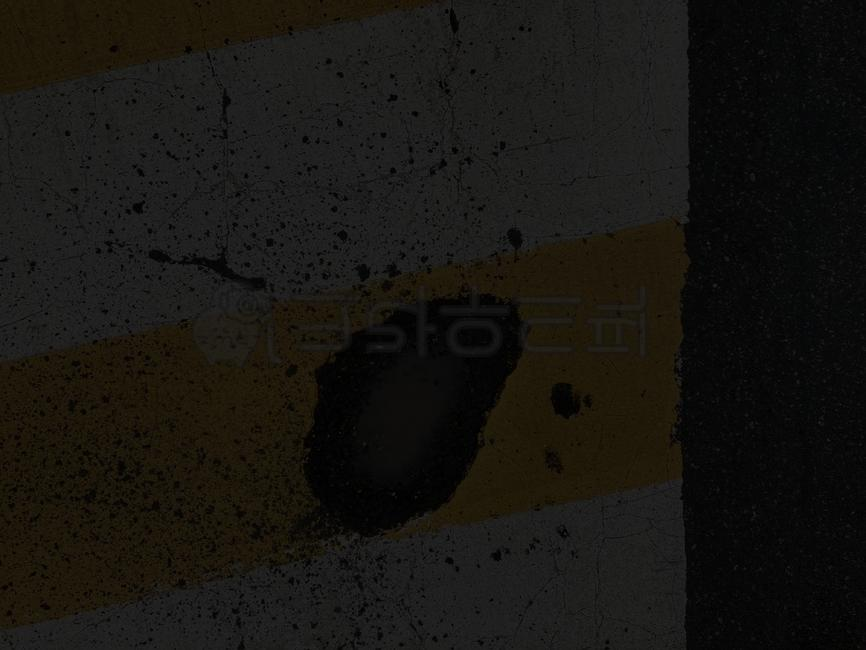pothole: (258, 245, 611, 544)
